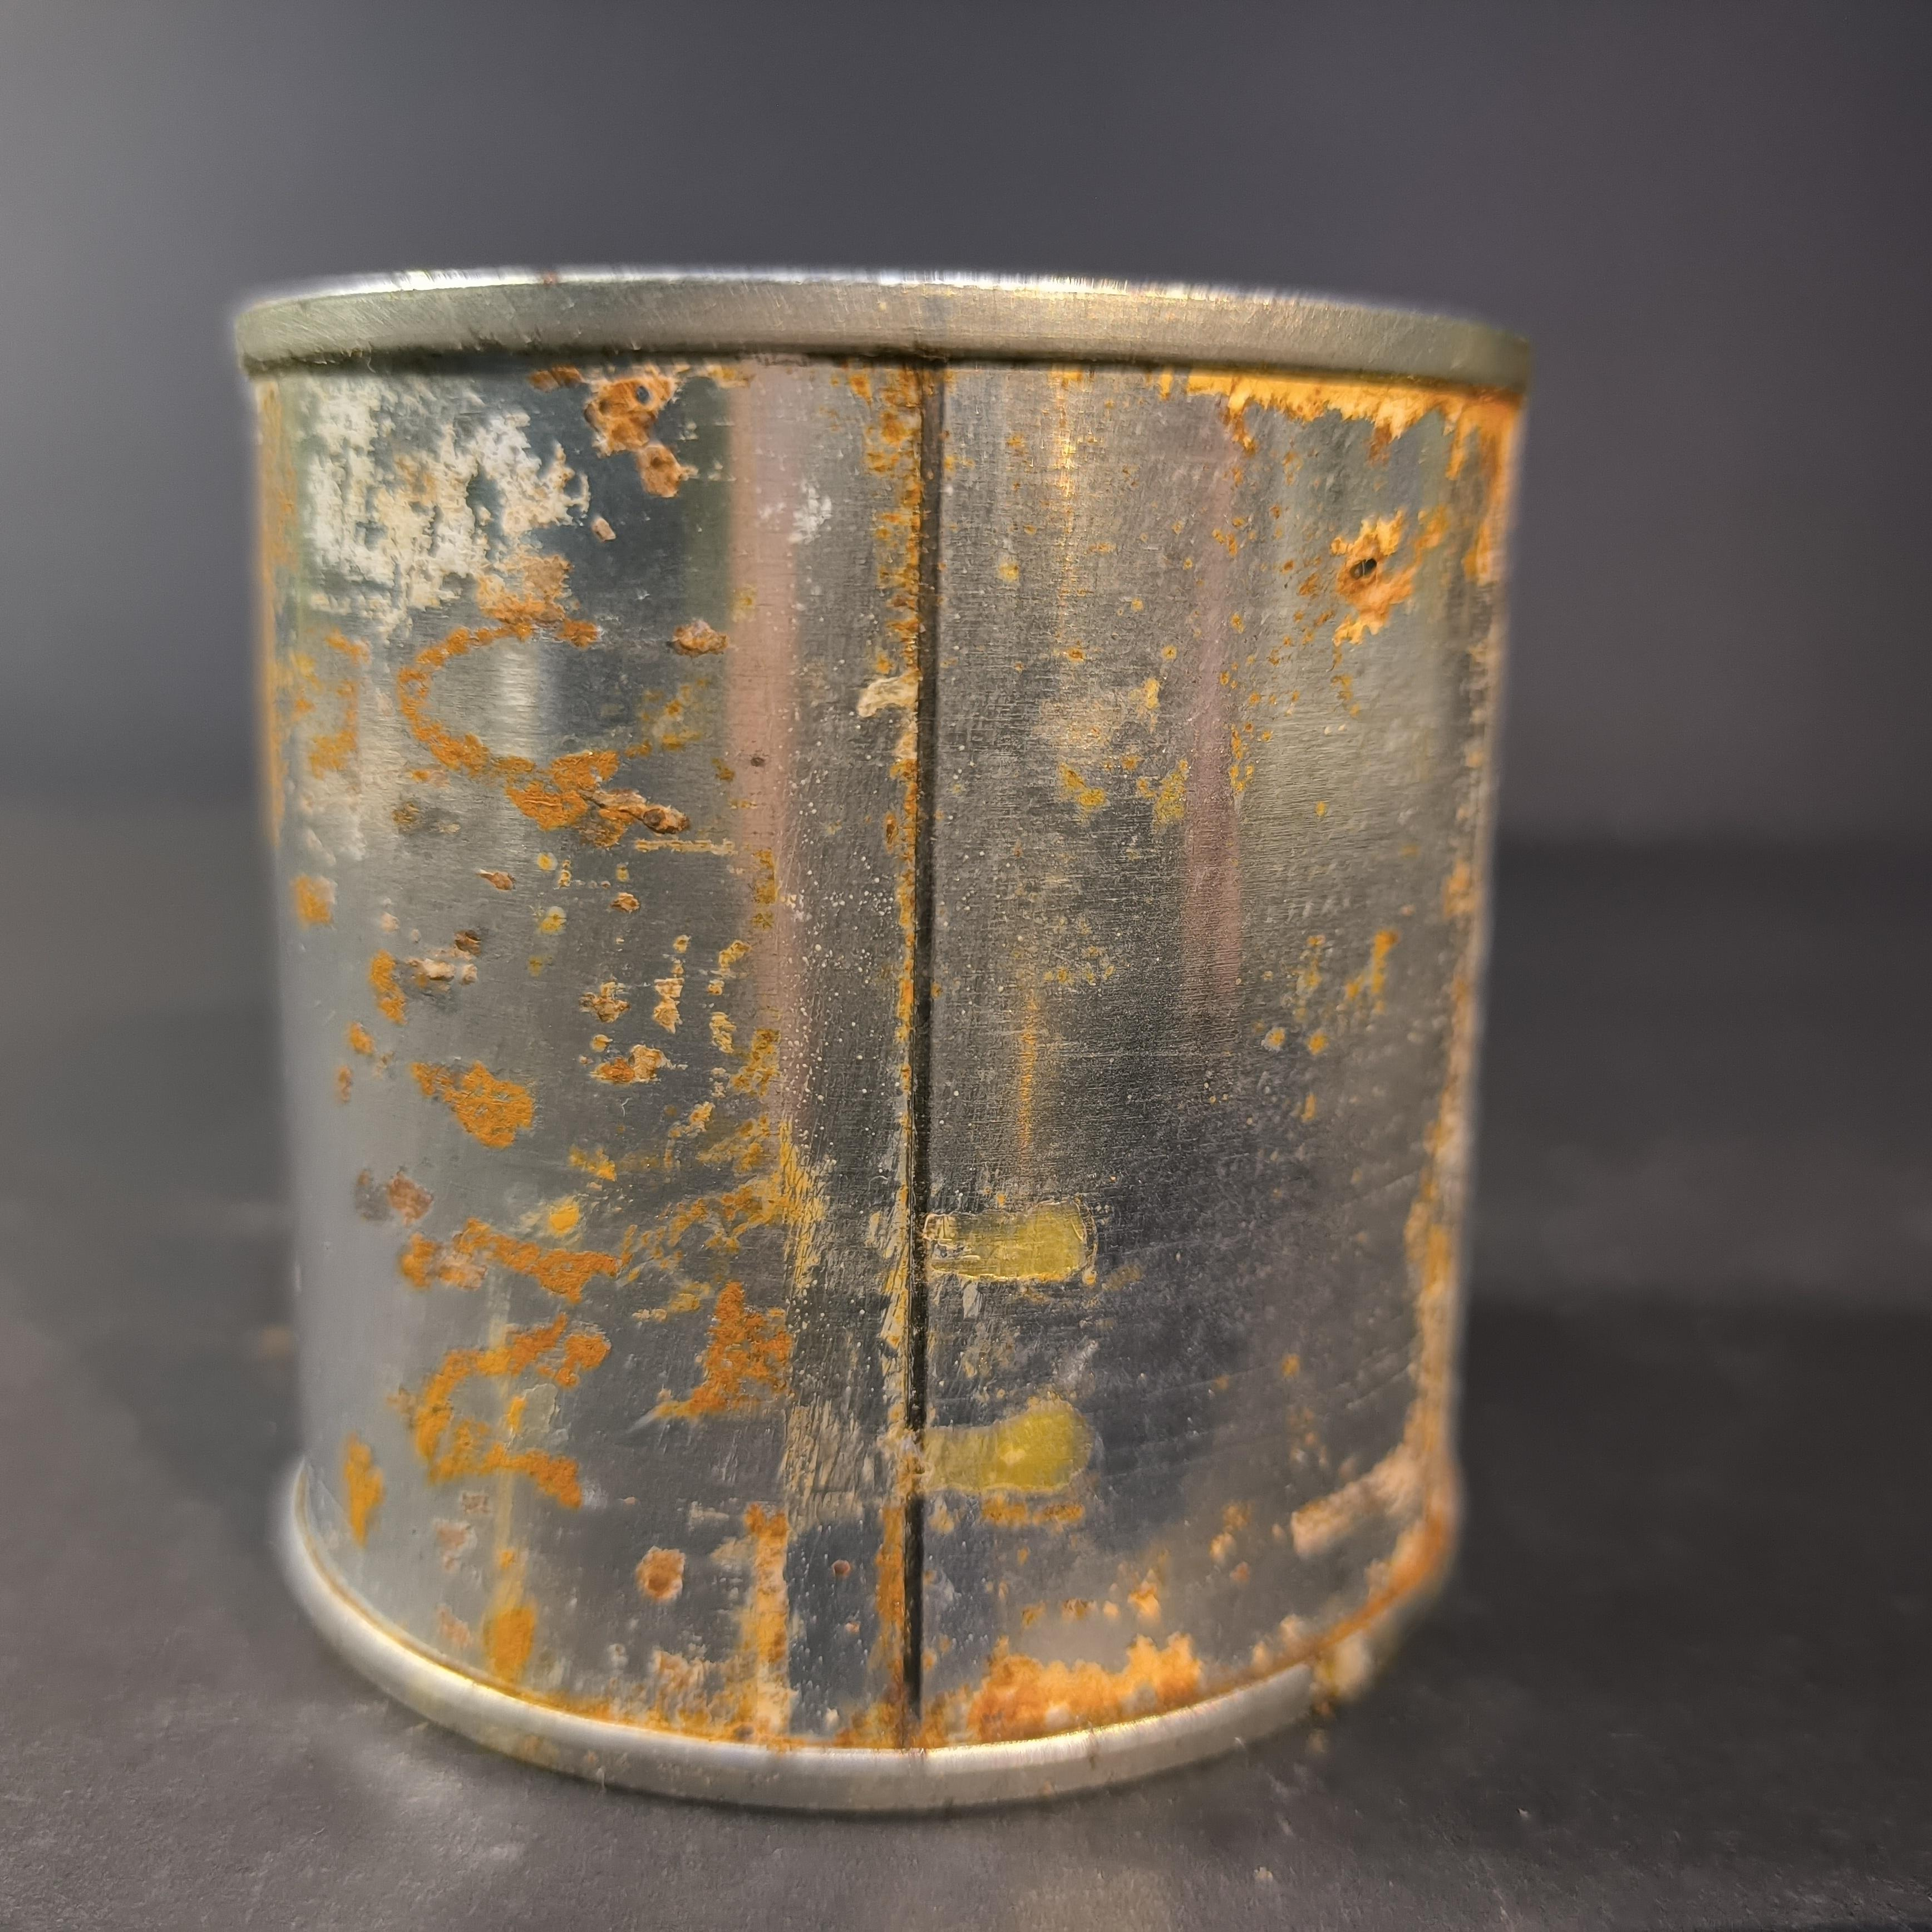Rusted: (200, 203, 1564, 1828)
